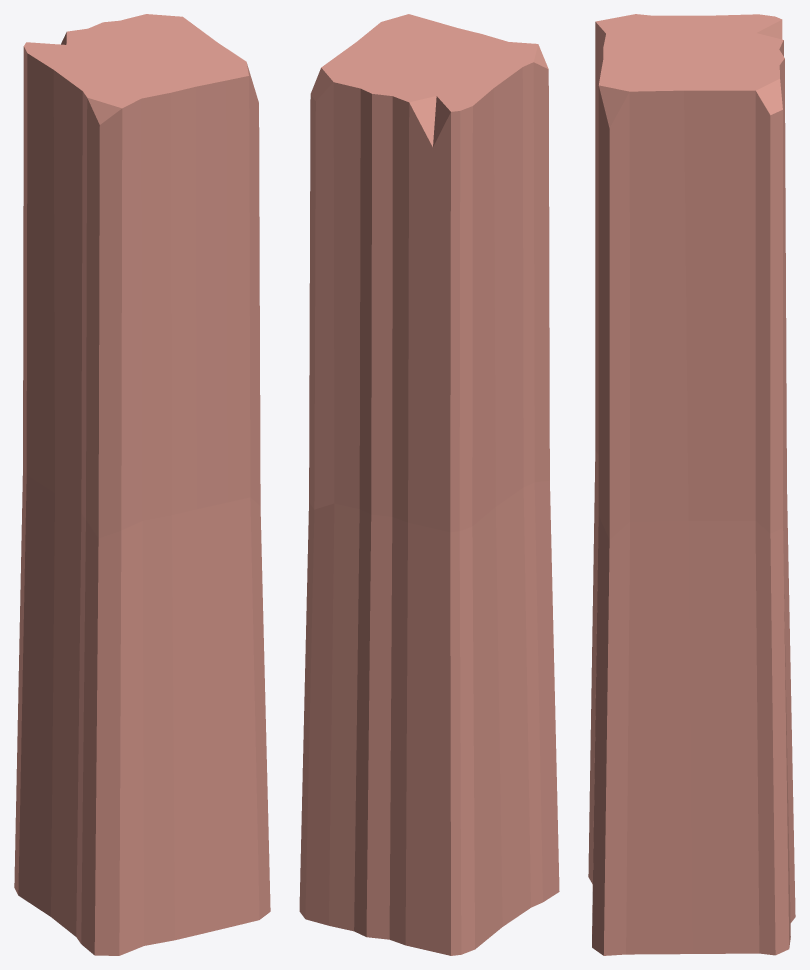
File: SuperGrid_Cube2.fbx
3 views of the same model, side by side, from view 1: azimuth 30°, elevation 25°; view 2: azimuth 150°, elevation 25°; view 3: azimuth 270°, elevation 25° (orthographic). The views are drawn at different scales.
Visible parts, largest first — view 1: SuperGrid_Cube2; view 2: SuperGrid_Cube2; view 3: SuperGrid_Cube2.
Boxes of the visible parts, box(x1,y1,x2,y2) form: SuperGrid_Cube2: box(14, 14, 270, 955); SuperGrid_Cube2: box(299, 14, 559, 955); SuperGrid_Cube2: box(588, 14, 795, 955).
Size of the model in its own units: 111 by 504 by 110.
